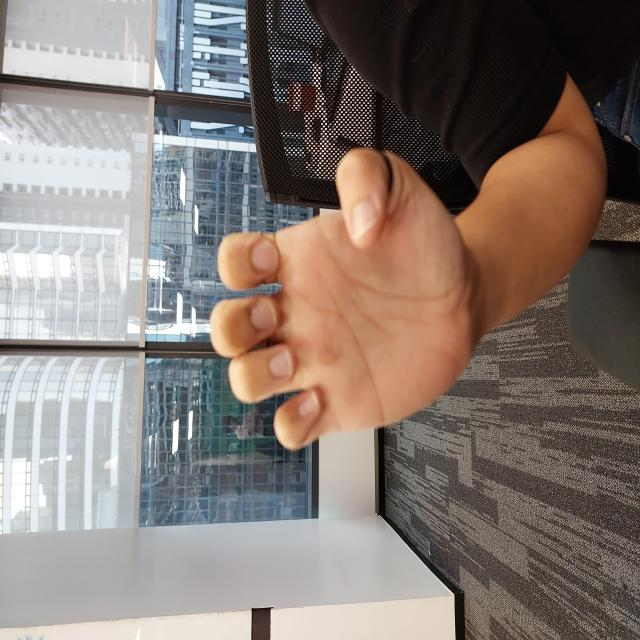E: (189, 206, 496, 483)
